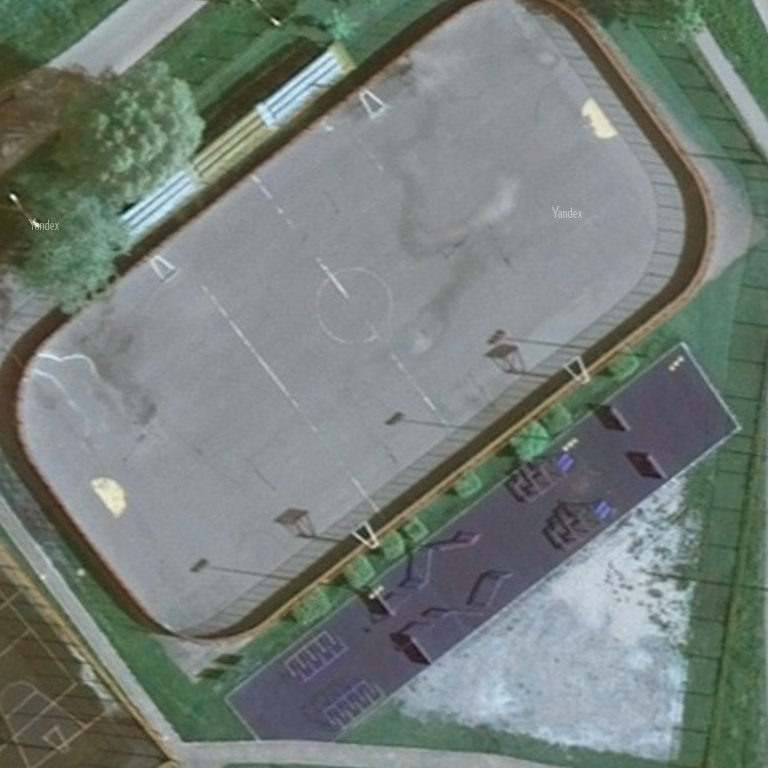basket_court: (50, 208, 432, 621), (288, 56, 649, 437)
